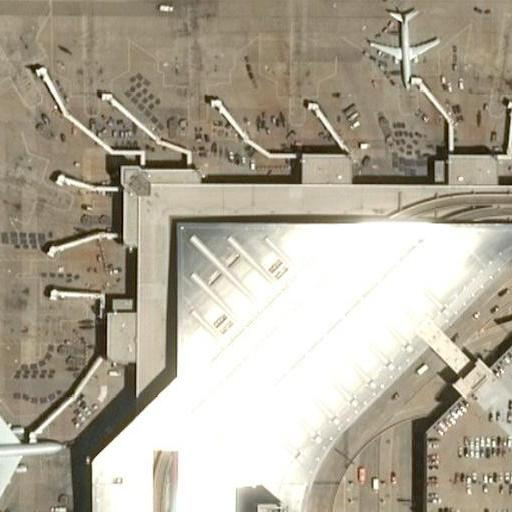Aircraft: (0, 383, 61, 508), (367, 6, 444, 84)
